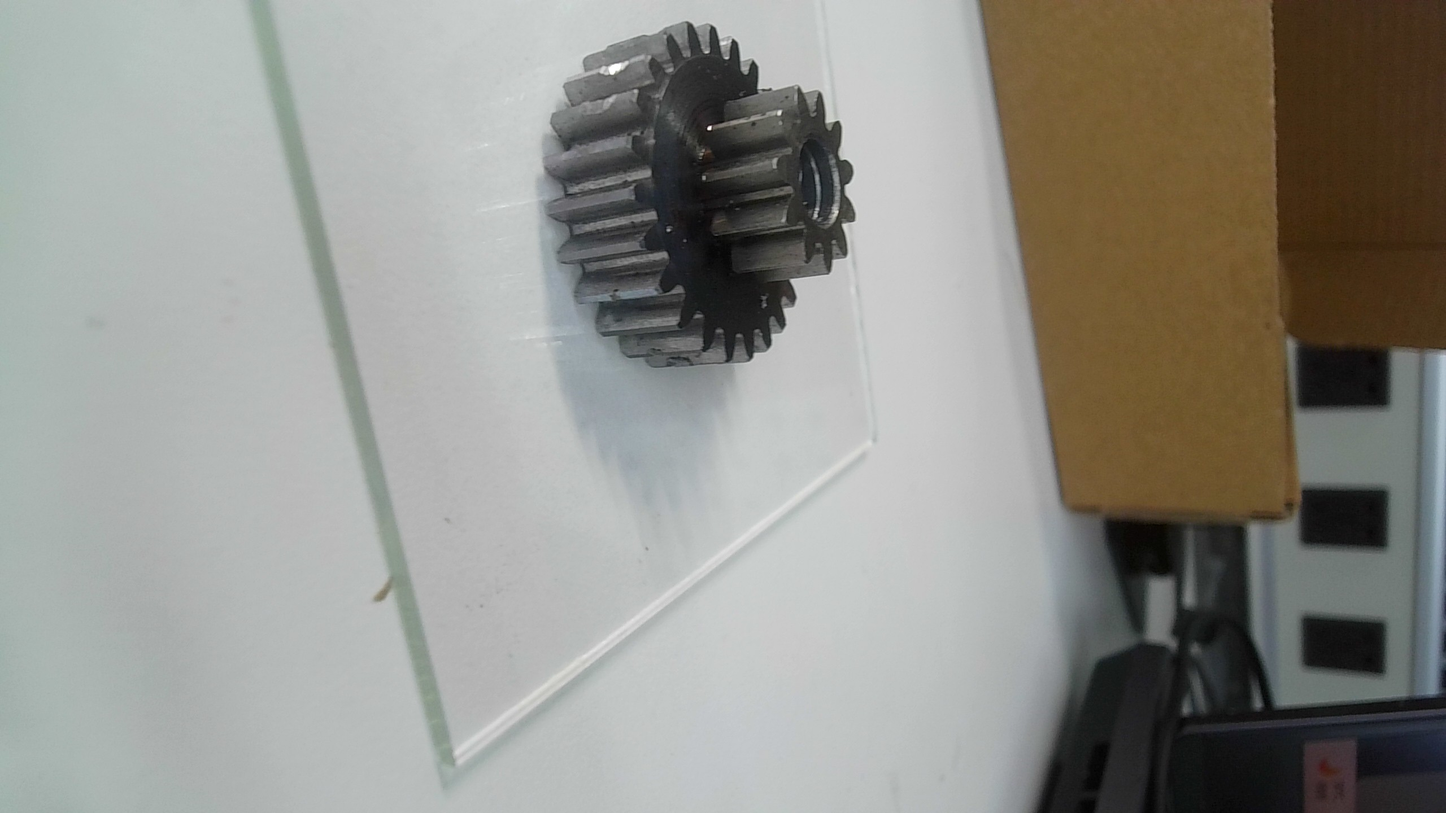gear: (545, 21, 857, 370)
